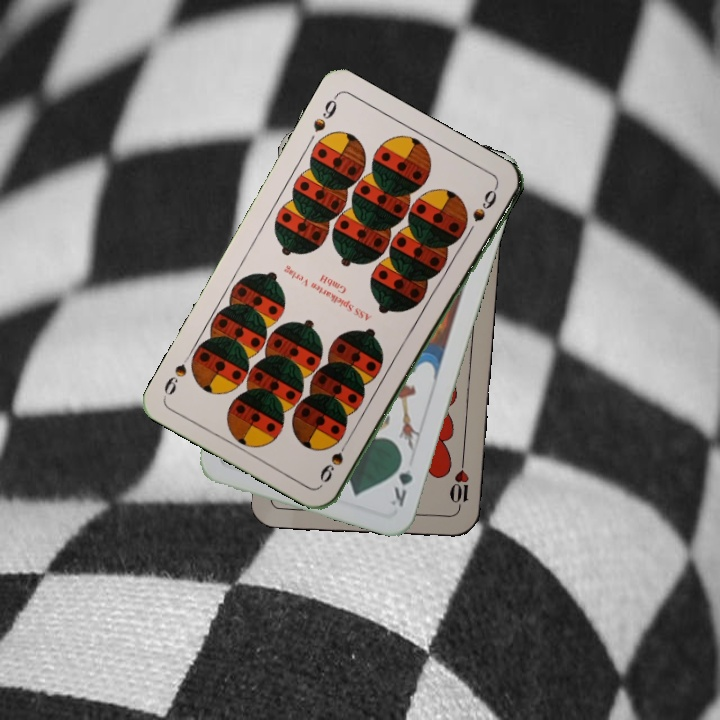GK: (385, 452, 416, 510)
H10: (445, 456, 472, 515)
S9: (317, 433, 354, 485), (309, 92, 340, 135)
